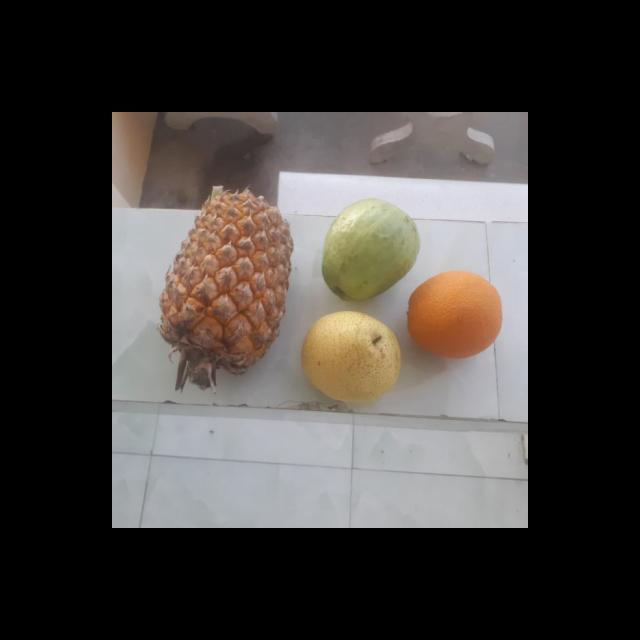guava: (320, 200, 419, 298)
orange: (403, 272, 505, 358)
pear: (296, 311, 403, 405)
pineapple: (158, 194, 288, 378)
